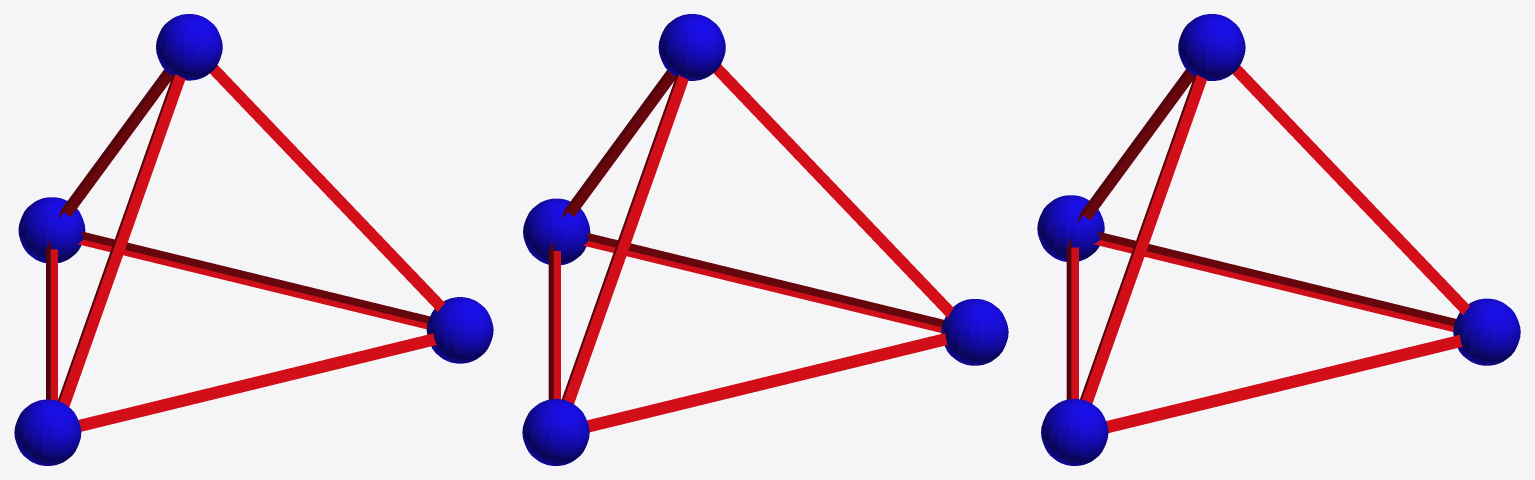
Rendered from vertice-tetraedro.glb.
The picture shows the model from 3 angles, left to right: view 1: azimuth 30°, elevation 25°; view 2: azimuth 150°, elevation 25°; view 3: azimuth 270°, elevation 25°; orthographic projection.
Parts seen in each view (by area): view 1: A, Sphere.002, Sphere, Sphere.003, Sphere.001; view 2: A, Sphere.001, Sphere, Sphere.002, Sphere.003; view 3: A, Sphere.003, Sphere, Sphere.001, Sphere.002.
Part boxes in pixels (x1,y1,x2,y2): A: (46,65,445,431); Sphere.002: (14,399,81,465); Sphere: (156,14,222,80); Sphere.003: (426,297,493,363); Sphere.001: (18,197,85,262); A: (548,64,953,432); Sphere.001: (522,399,589,465); Sphere: (658,14,725,80); Sphere.002: (941,299,1008,365); Sphere.003: (523,198,590,264); A: (1066,65,1469,432); Sphere.003: (1041,399,1108,465); Sphere: (1178,14,1245,80); Sphere.001: (1453,298,1520,365); Sphere.002: (1037,195,1104,261).
Size of the model in its own units: 1.64 by 1.14 by 1.45.
